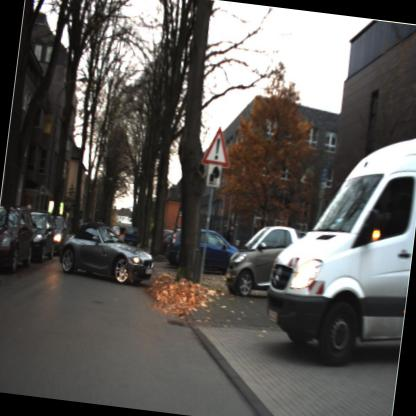danger: (198, 118, 236, 173)
